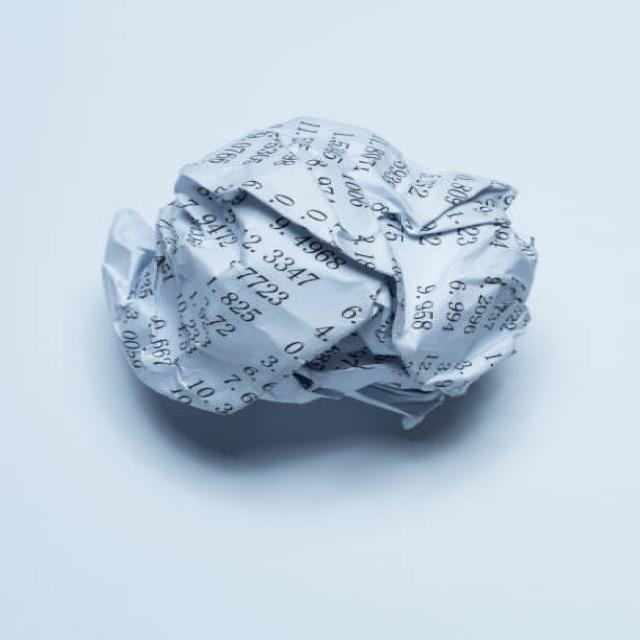electronic: (99, 114, 538, 431)
